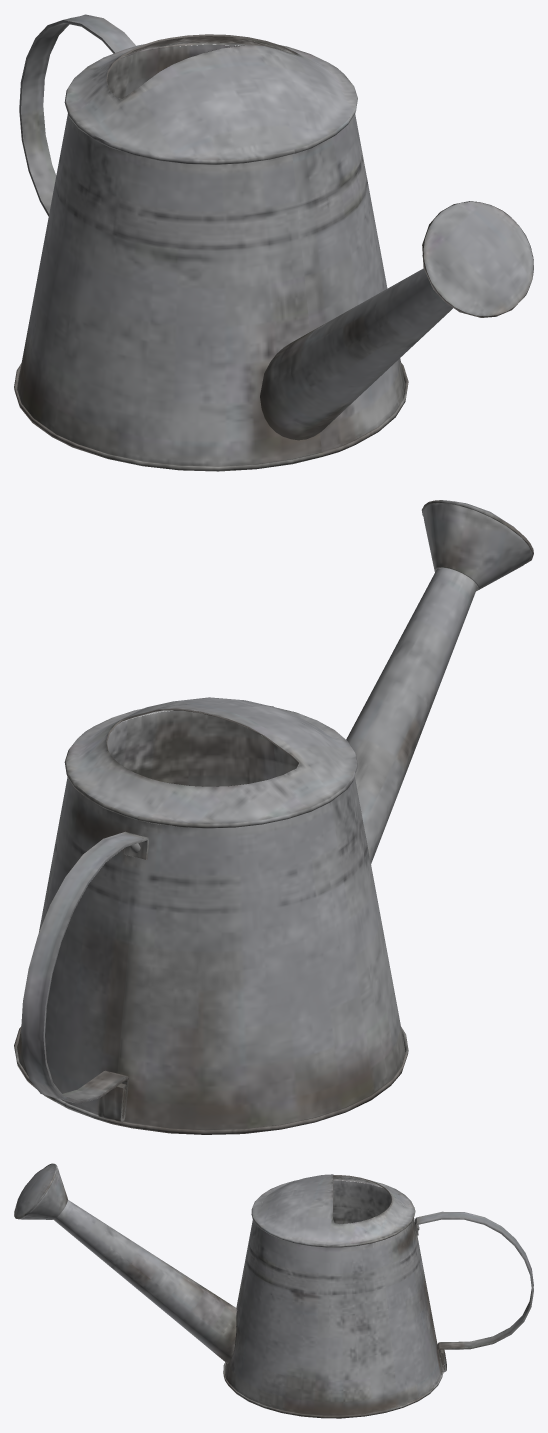
The model's file is ph_watering_can_metal_01.glb.
3 renders of one model, top to bottom at view 1: azimuth 30°, elevation 25°; view 2: azimuth 150°, elevation 25°; view 3: azimuth 270°, elevation 25°, orthographic. The views are drawn at different scales.
Parts seen in each view (by area): view 1: watering_can_metal_01; view 2: watering_can_metal_01; view 3: watering_can_metal_01.
Boxes of the visible parts, <box> form: watering_can_metal_01: <box>14,14,533,471</box>; watering_can_metal_01: <box>14,500,533,1134</box>; watering_can_metal_01: <box>14,1163,533,1418</box>.
Bounding box in the file's own units: 0.191 × 0.1968 × 0.4523.
1 material, 1 textured.
